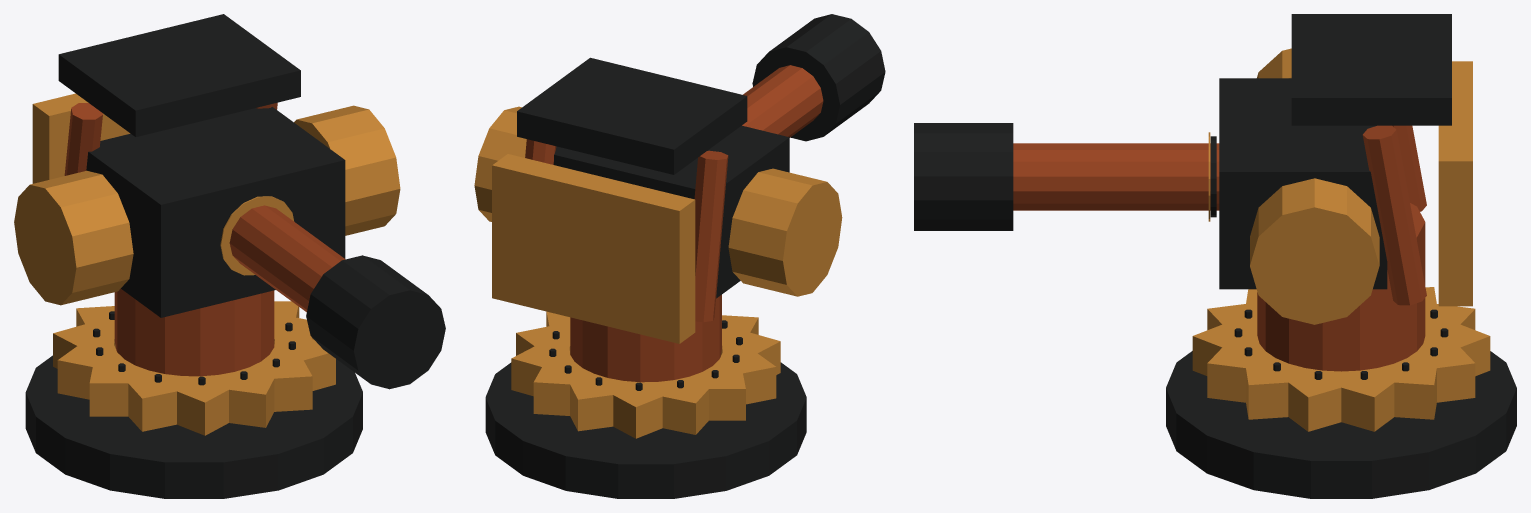
Rendered from ENEMY_SentinelTurret_Blockout_LOD0.obj.
3 views of the same model, side by side, from view 1: azimuth 30°, elevation 25°; view 2: azimuth 150°, elevation 25°; view 3: azimuth 270°, elevation 25° (orthographic). The views are drawn at different scales.
Visible parts, largest first — view 1: turret_iron_housing, floor_mount_disc, ceiling_clamp_plate, yaw_gear_ring, heavy_muzzle_brake, left_ammo_drum, central_pressure_column, right_ammo_drum, short_pressure_cannon, rear_wall_mount_plate, left_vertical_mount_pipe, turret_sight_core_brass_lip (+1 smaller); view 2: rear_wall_mount_plate, floor_mount_disc, yaw_gear_ring, ceiling_clamp_plate, left_ammo_drum, heavy_muzzle_brake, turret_iron_housing, central_pressure_column, left_vertical_mount_pipe, short_pressure_cannon, right_ammo_drum, yaw_gear_ring_rivet (+1 smaller); view 3: floor_mount_disc, yaw_gear_ring, ceiling_clamp_plate, turret_iron_housing, right_ammo_drum, short_pressure_cannon, heavy_muzzle_brake, central_pressure_column, rear_wall_mount_plate, right_vertical_mount_pipe, left_vertical_mount_pipe, yaw_gear_ring_rivet (+1 smaller).
Part boxes in pixels (box(x1,y1,x2,y2)): turret_iron_housing: box(86, 107, 345, 317); floor_mount_disc: box(25, 355, 362, 498); ceiling_clamp_plate: box(58, 14, 300, 136); yaw_gear_ring: box(53, 301, 335, 435); heavy_muzzle_brake: box(306, 255, 445, 389); left_ammo_drum: box(14, 170, 133, 305); central_pressure_column: box(114, 288, 274, 376); right_ammo_drum: box(294, 105, 400, 235); short_pressure_cannon: box(229, 205, 345, 312); rear_wall_mount_plate: box(32, 93, 130, 183); left_vertical_mount_pipe: box(64, 103, 102, 175); turret_sight_core_brass_lip: box(220, 196, 294, 275); rear_wall_mount_plate: box(492, 154, 695, 343); floor_mount_disc: box(485, 362, 806, 498); yaw_gear_ring: box(511, 311, 780, 438); ceiling_clamp_plate: box(517, 57, 747, 174); left_ammo_drum: box(728, 168, 842, 296); heavy_muzzle_brake: box(752, 14, 885, 141); turret_iron_housing: box(553, 125, 789, 298); central_pressure_column: box(570, 295, 721, 382); left_vertical_mount_pipe: box(694, 150, 728, 322); short_pressure_cannon: box(742, 65, 823, 137); right_ammo_drum: box(474, 106, 526, 221); yaw_gear_ring_rivet: box(549, 320, 742, 390); floor_mount_disc: box(1166, 351, 1516, 498); yaw_gear_ring: box(1192, 287, 1490, 431); ceiling_clamp_plate: box(1291, 14, 1451, 125); turret_iron_housing: box(1219, 78, 1387, 289); right_ammo_drum: box(1250, 178, 1379, 324); short_pressure_cannon: box(1013, 143, 1219, 210); heavy_muzzle_brake: box(914, 123, 1013, 230); central_pressure_column: box(1257, 203, 1425, 371); rear_wall_mount_plate: box(1438, 61, 1472, 306); right_vertical_mount_pipe: box(1362, 125, 1426, 305); left_vertical_mount_pipe: box(1392, 125, 1426, 211); yaw_gear_ring_rivet: box(1234, 309, 1448, 379).
Bounding box in the file's own units: 1.02 × 1.07 × 1.58.
